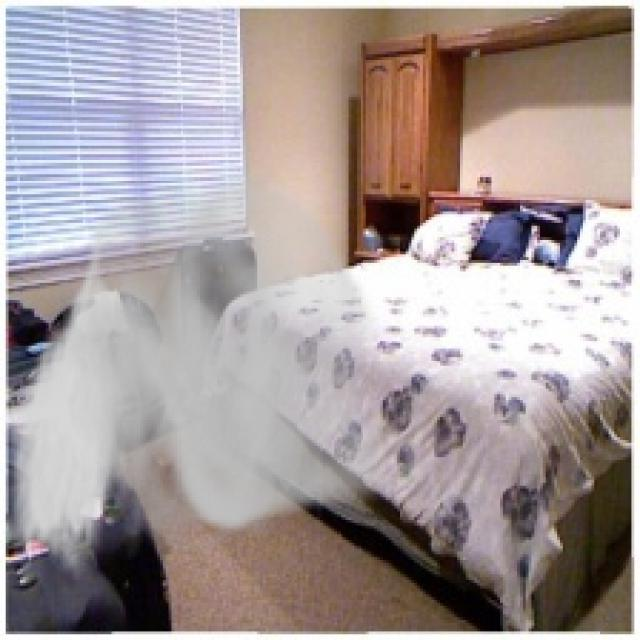smoke: (3, 160, 388, 580)
